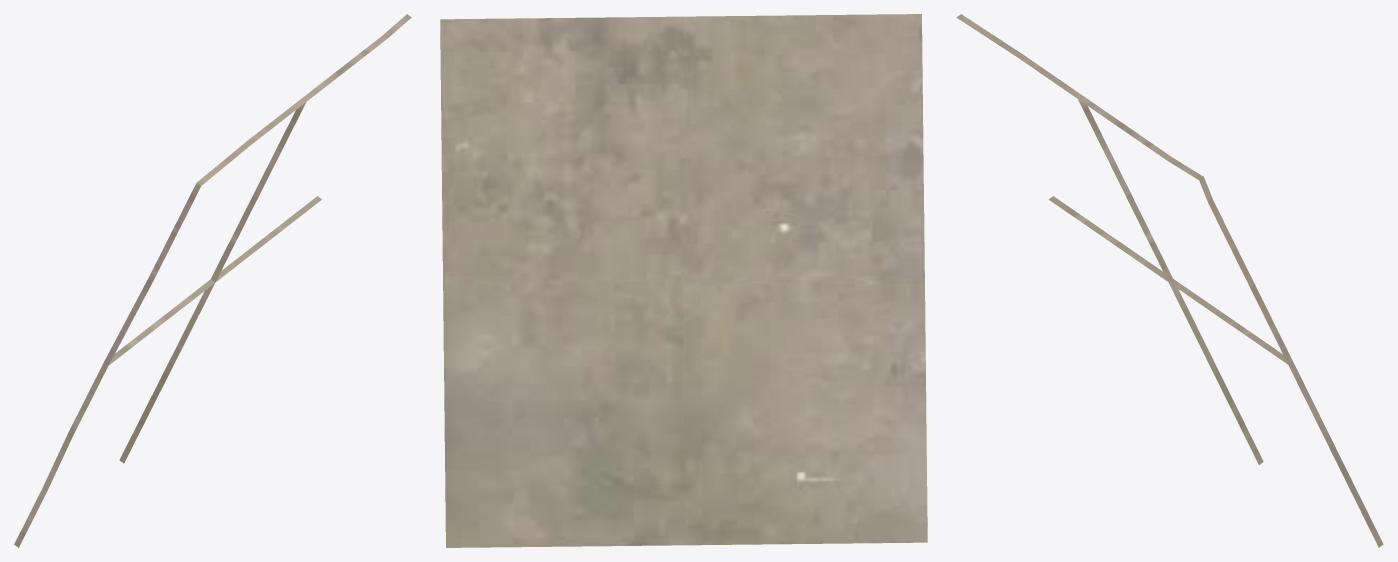
3 renders of one model, left to right at view 1: azimuth 30°, elevation 25°; view 2: azimuth 150°, elevation 25°; view 3: azimuth 270°, elevation 25°, orthographic. The views are drawn at different scales.
Size of the model in its own units: 38.04 by 34.81 by 32.31.
Materials: 1 (1 with a texture image).
